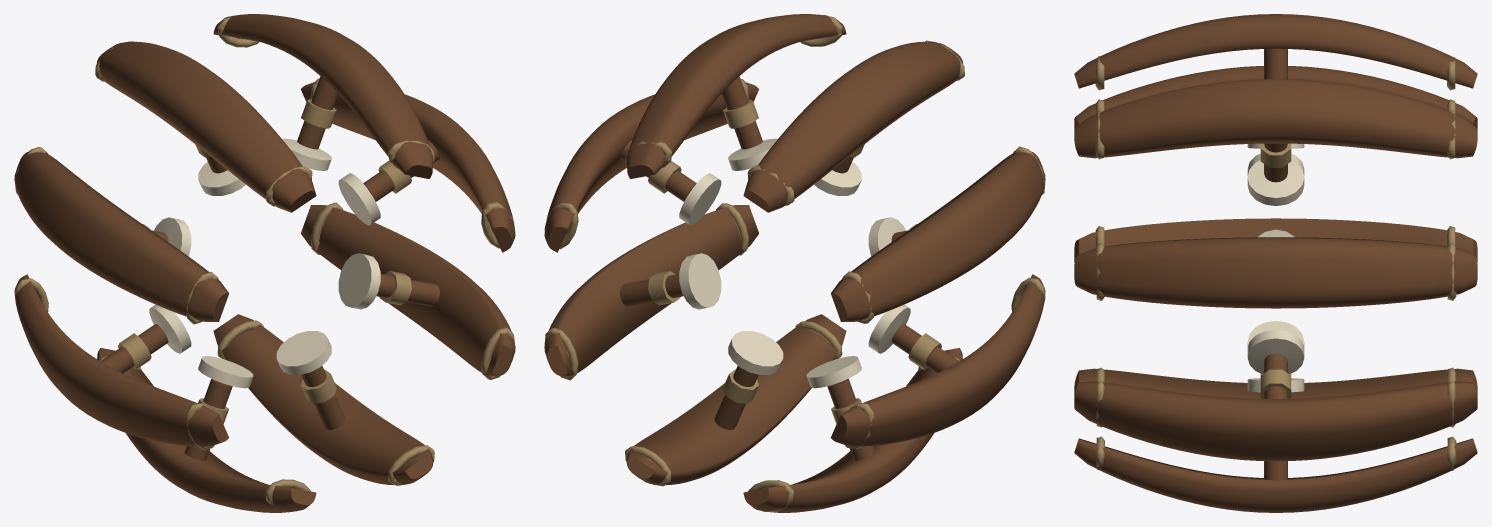
Rendered from k12_dampers.obj.
3 renders of one model, left to right at view 1: azimuth 30°, elevation 25°; view 2: azimuth 150°, elevation 25°; view 3: azimuth 270°, elevation 25°, orthographic. The views are drawn at different scales.
Parts seen in each view (by area): view 1: k12_dampers; view 2: k12_dampers; view 3: k12_dampers.
Boxes of the visible parts, bbox=[...] form: k12_dampers: bbox=[14, 14, 515, 512]; k12_dampers: bbox=[544, 14, 1045, 512]; k12_dampers: bbox=[1074, 14, 1477, 512].
Size of the model in its own units: 3.16 by 3.16 by 2.7.
